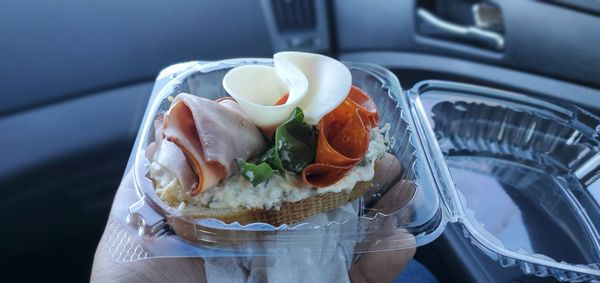pizza: (221, 64, 309, 128), (259, 0, 334, 57)
soup: (139, 93, 383, 241)
sushi: (272, 50, 353, 125), (221, 63, 309, 128)
